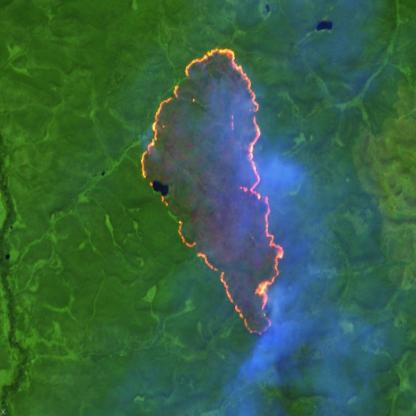fire: (140, 42, 286, 344)
